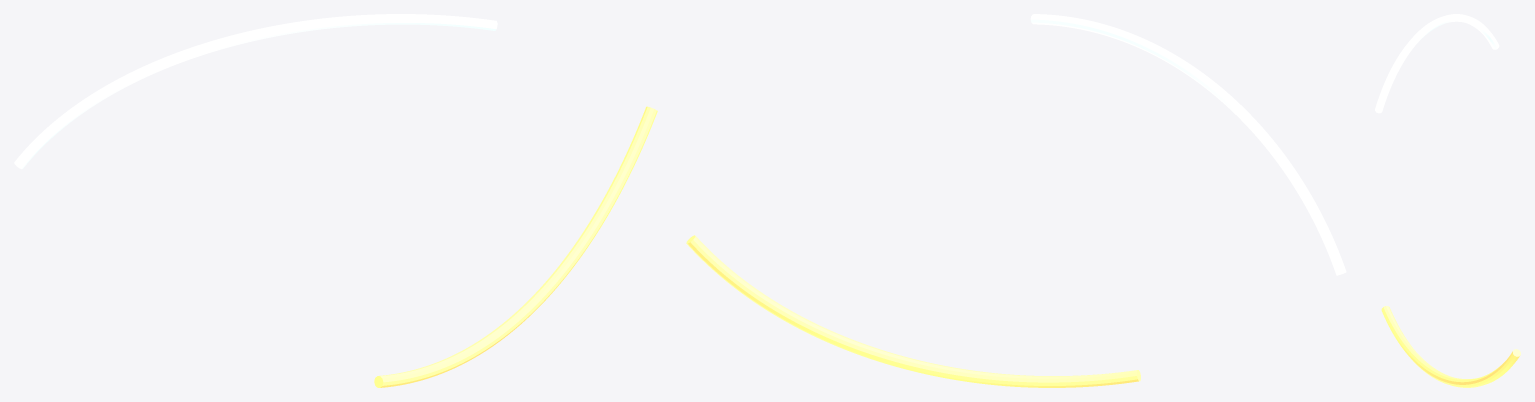
The model's file is ev_core_r10dp_energy_streams.glb.
The picture shows the model from 3 angles, left to right: view 1: azimuth 30°, elevation 25°; view 2: azimuth 150°, elevation 25°; view 3: azimuth 270°, elevation 25°; orthographic projection. The views are drawn at different scales.
Visible parts, largest first — view 1: cool_stream, warm_stream; view 2: warm_stream, cool_stream; view 3: warm_stream, cool_stream.
Boxes of the visible parts, bbox=[...] form: cool_stream: bbox=[14, 14, 497, 169]; warm_stream: bbox=[374, 106, 657, 387]; warm_stream: bbox=[686, 235, 1140, 387]; cool_stream: bbox=[1030, 14, 1346, 275]; warm_stream: bbox=[1381, 306, 1520, 387]; cool_stream: bbox=[1375, 14, 1499, 113].
Size of the model in its own units: 306 by 169 by 82.33.
